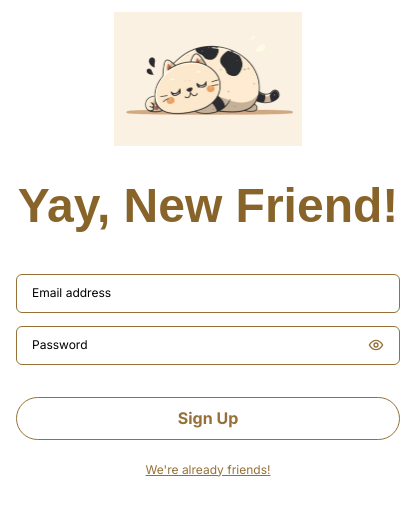
Test: RegisterPage › shows API error message on failed registration
This screenshot has width=417, height=528.
Type "existing@example.com" into the field labelled "Email address" at (208,293), box [32,284,384,302]
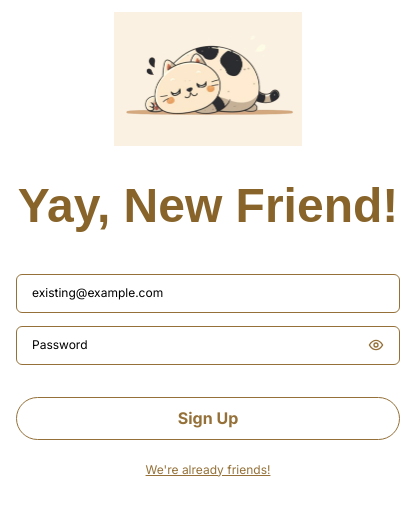
Type "validpassword123" into the password field labelled "Password" at (196,345), box [32,336,360,354]
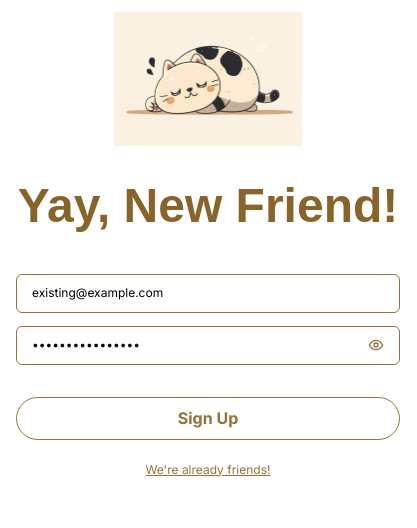
Click the button "Sign Up" at (208,418), box [16,397,400,440]
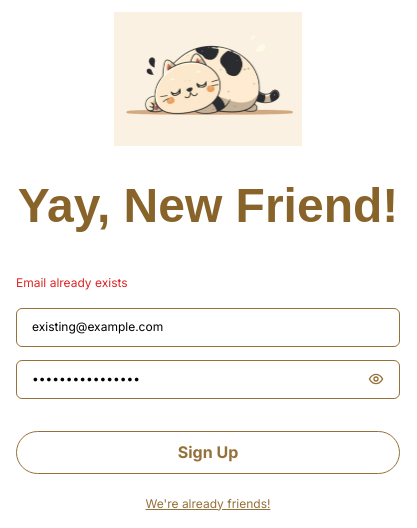
Check: the text "Email already exists" is shown, box [16,275,128,290]
